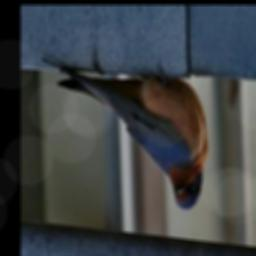Swallow: (40, 57, 209, 211)
